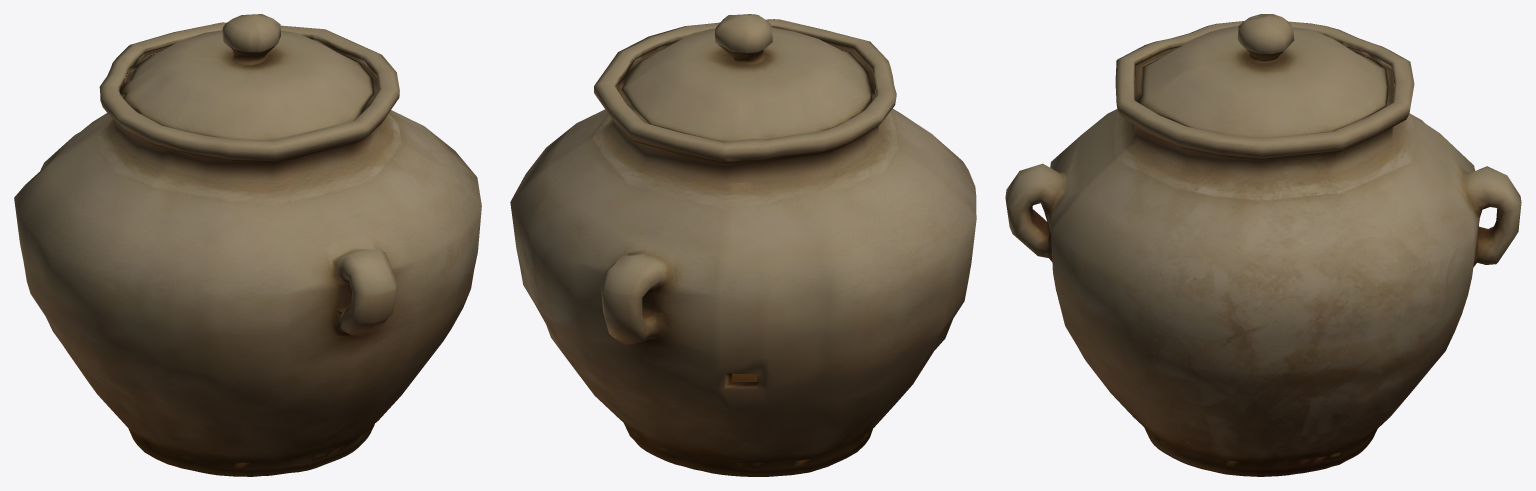
Rendered from Prop_Jar_Ceramic.glb.
3 renders of one model, left to right at view 1: azimuth 30°, elevation 25°; view 2: azimuth 150°, elevation 25°; view 3: azimuth 270°, elevation 25°, orthographic.
Visible parts, largest first — view 1: tripo_node_174be2f8-c3d7-4b77-9977-67e60d396e15; view 2: tripo_node_174be2f8-c3d7-4b77-9977-67e60d396e15; view 3: tripo_node_174be2f8-c3d7-4b77-9977-67e60d396e15.
Boxes of the visible parts, x1,y1,x2,y2 form: tripo_node_174be2f8-c3d7-4b77-9977-67e60d396e15: (14, 14, 481, 476); tripo_node_174be2f8-c3d7-4b77-9977-67e60d396e15: (510, 14, 976, 476); tripo_node_174be2f8-c3d7-4b77-9977-67e60d396e15: (1005, 14, 1521, 476).
Bounding box in the file's own units: 0.5178 × 0.5 × 0.569.
Materials: 1 (1 with a texture image).
